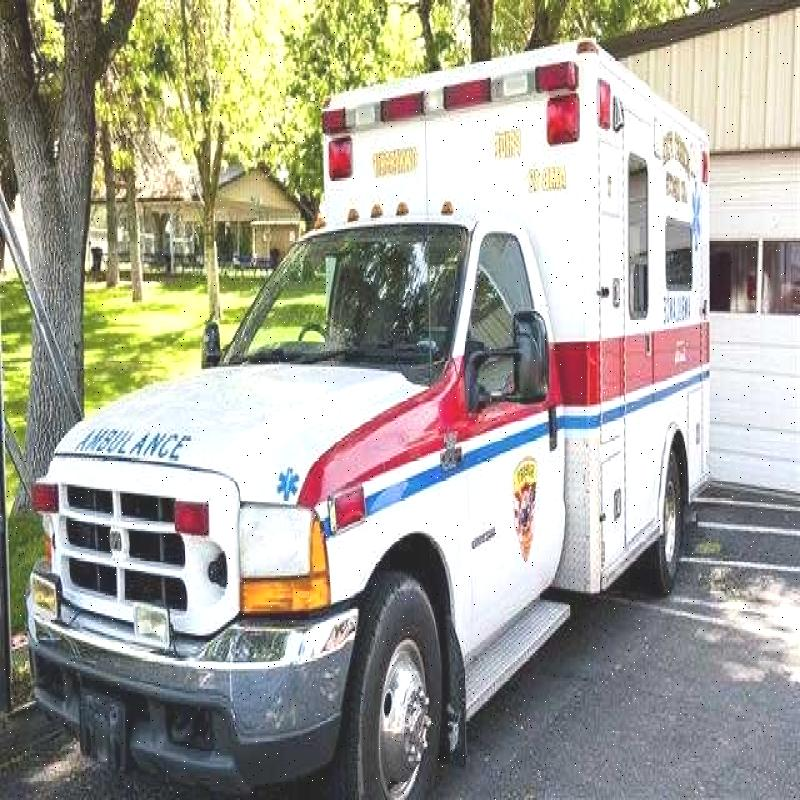AmbulanceSiren: (309, 63, 603, 179)
